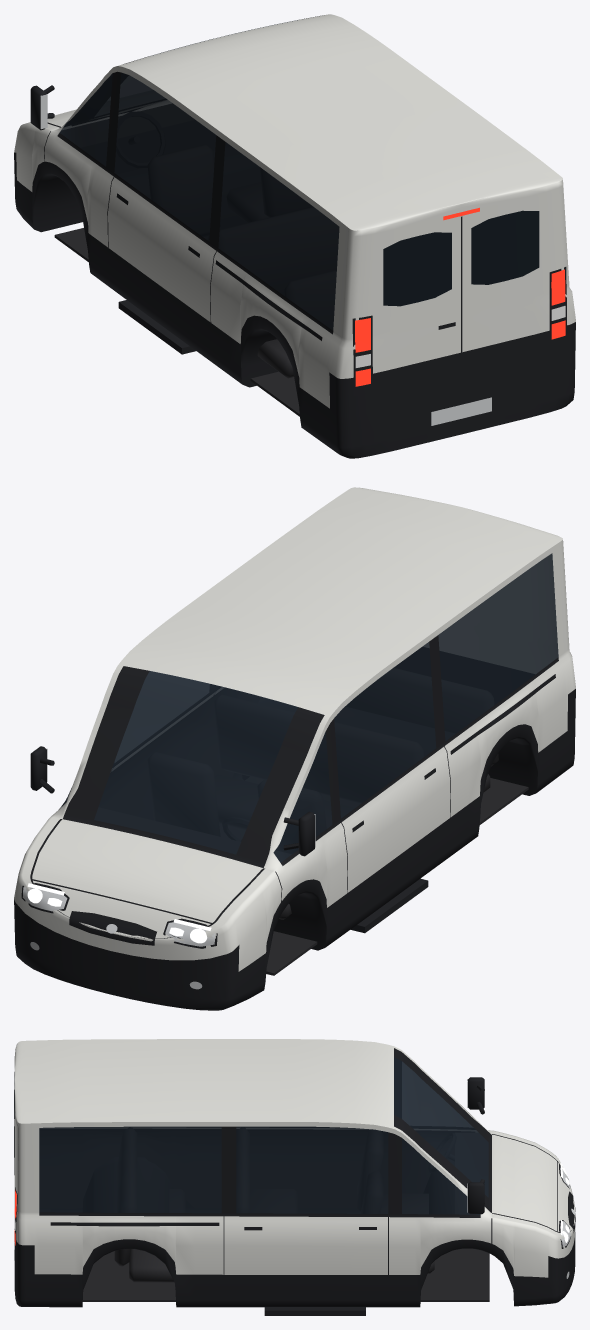
The model's file is van_body.glb.
3 renders of one model, top to bottom at view 1: azimuth 30°, elevation 25°; view 2: azimuth 150°, elevation 25°; view 3: azimuth 270°, elevation 25°, orthographic. The views are drawn at different scales.
Visible parts, largest first — view 1: VanBody, RearBumper; view 2: VanBody, FrontBumper, RearBumper; view 3: VanBody, RearBumper, FrontBumper.
Part boxes in pixels (x1,y1,x2,y2): VanBody: (14,14,575,448); RearBumper: (329,322,575,458); VanBody: (14,487,575,1003); FrontBumper: (14,899,239,1010); RearBumper: (394,647,575,770); VanBody: (14,1039,575,1315); RearBumper: (14,1229,34,1306); FrontBumper: (548,1232,575,1303).
Size of the model in its own units: 2.27 by 1.86 by 4.99.
